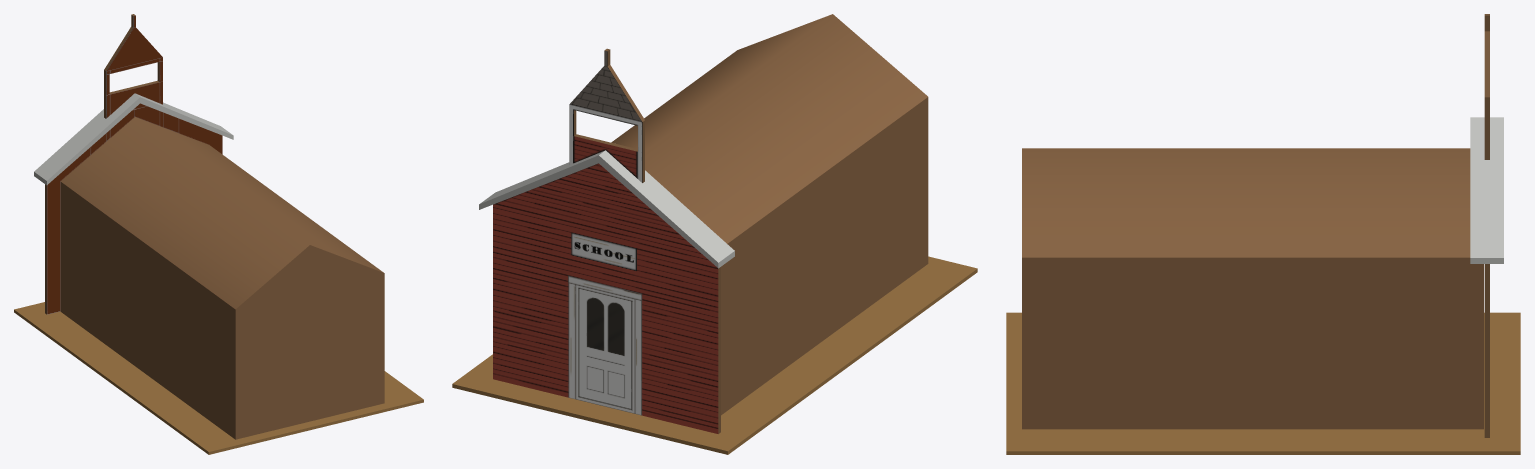
The model's file is SchoolWBackTex_002.fbx.
The picture shows the model from 3 angles, left to right: view 1: azimuth 30°, elevation 25°; view 2: azimuth 150°, elevation 25°; view 3: azimuth 270°, elevation 25°; orthographic projection. The views are drawn at different scales.
Parts seen in each view (by area): view 1: SchoolBack, SchoolhouseMain, SchoolBase; view 2: SchoolBack, SchoolhouseMain, SchoolBase; view 3: SchoolBack, SchoolBase, SchoolhouseMain.
Part boxes in pixels (box(x1,y1,x2,y2)): SchoolBack: box(60, 117, 384, 439); SchoolhouseMain: box(34, 14, 233, 314); SchoolBase: box(14, 302, 423, 454); SchoolBack: box(611, 14, 928, 415); SchoolhouseMain: box(479, 48, 734, 433); SchoolBase: box(452, 256, 977, 454); SchoolBack: box(1022, 148, 1483, 429); SchoolBase: box(1006, 312, 1520, 454); SchoolhouseMain: box(1470, 14, 1503, 437).
Size of the model in its own units: 33.51 by 41.75 by 52.55.
5 materials, 1 textured.
